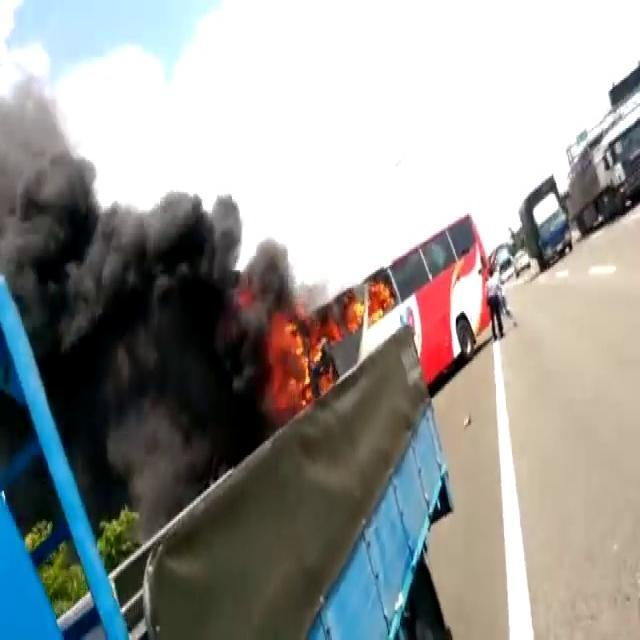Fire: (266, 310, 324, 415), (335, 270, 394, 340)
Smoke: (0, 52, 282, 484)
